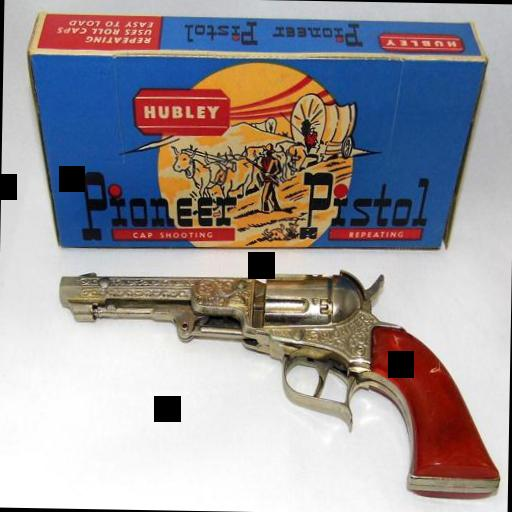Handgun: (48, 262, 506, 504)
